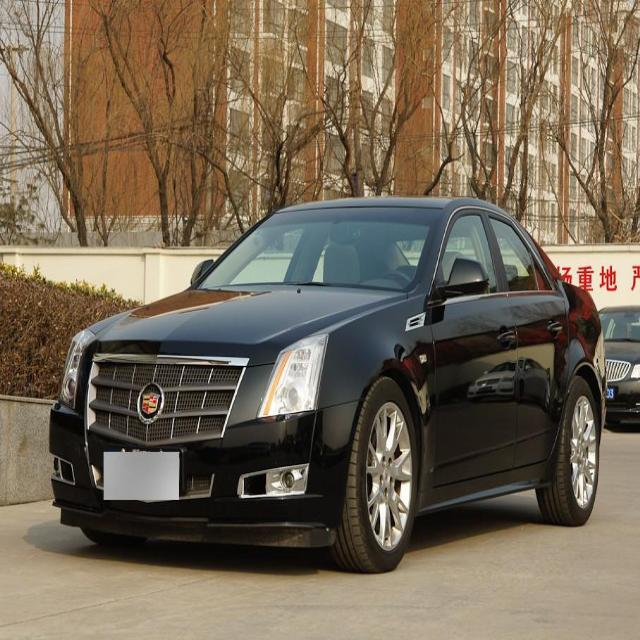front_bumper: (48, 381, 360, 553)
front_glass: (205, 207, 442, 290)
front_left_side_door: (425, 200, 519, 507)
front_left_side_light: (255, 330, 330, 426)
front_left_side_mirror: (441, 255, 494, 298)
front_right_side_light: (57, 333, 88, 408)
front_right_side_mirror: (188, 254, 215, 290)
wheel: (343, 382, 418, 566), (542, 374, 600, 515)
